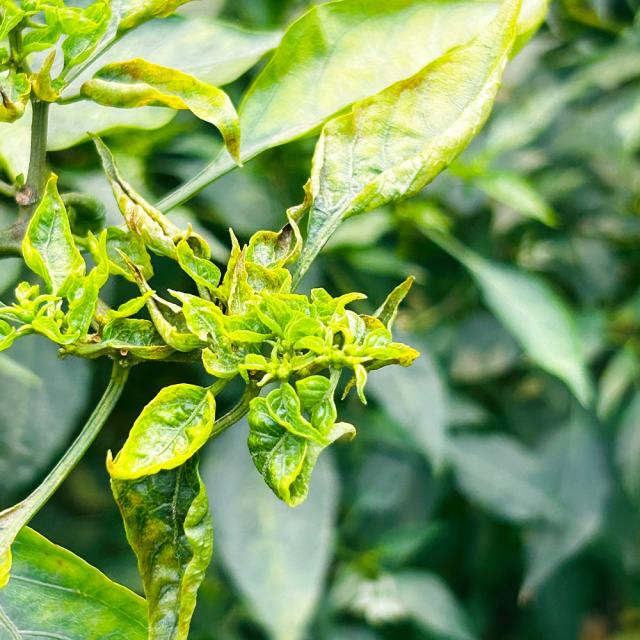Chilli_Leaf_Curl: (1, 0, 552, 638), (237, 0, 548, 293), (106, 218, 420, 508), (104, 382, 216, 639), (79, 56, 243, 168), (0, 523, 150, 639), (246, 375, 356, 508), (105, 382, 217, 481)
